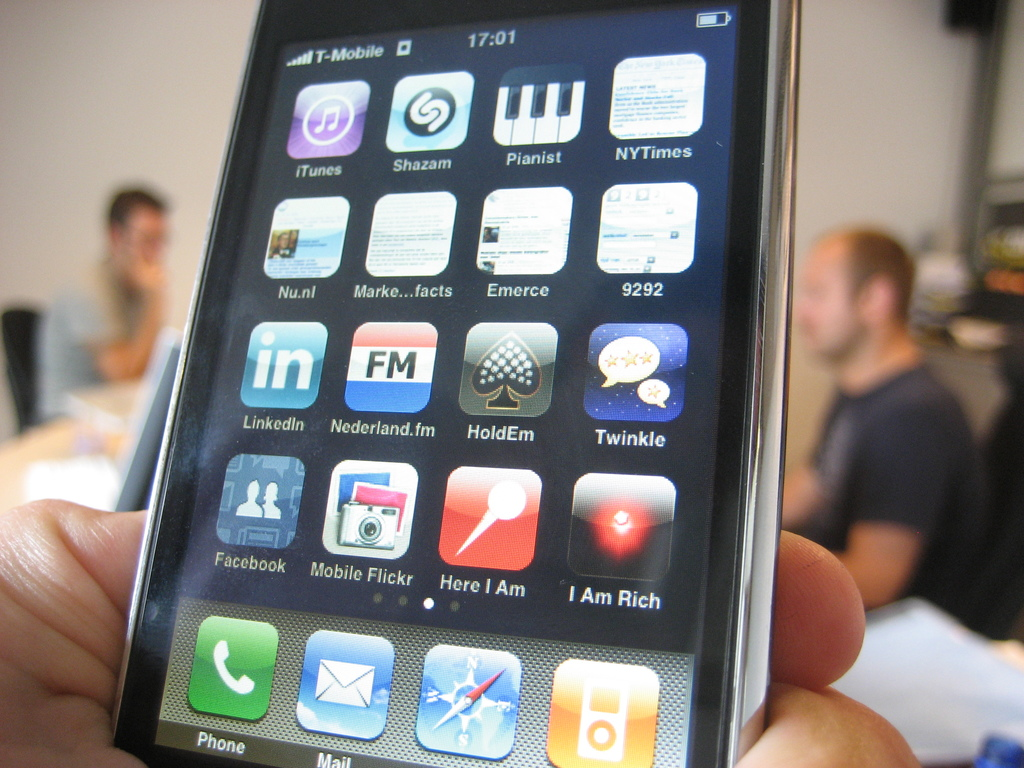Mobile-phone: (103, 0, 812, 768)
